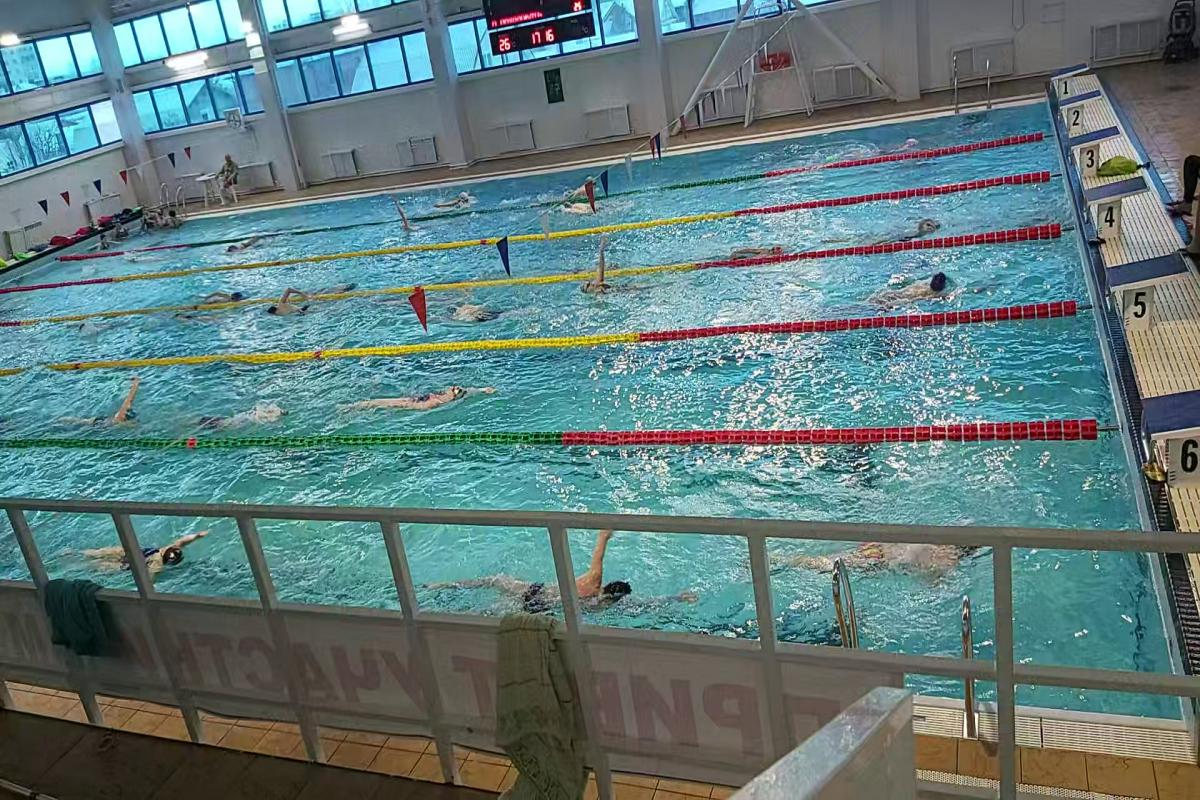swimmer: (426, 533, 703, 623), (71, 520, 214, 581), (345, 374, 504, 425), (59, 384, 155, 434), (202, 391, 303, 433), (872, 270, 964, 314), (576, 240, 626, 301), (441, 299, 525, 330), (720, 230, 794, 259), (255, 288, 317, 322), (387, 198, 427, 238), (183, 283, 247, 305), (892, 213, 944, 238), (220, 232, 274, 256), (561, 198, 618, 217)
